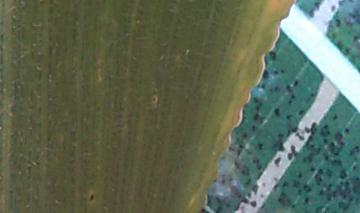tarspot: (146, 94, 162, 106), (86, 191, 99, 204)
